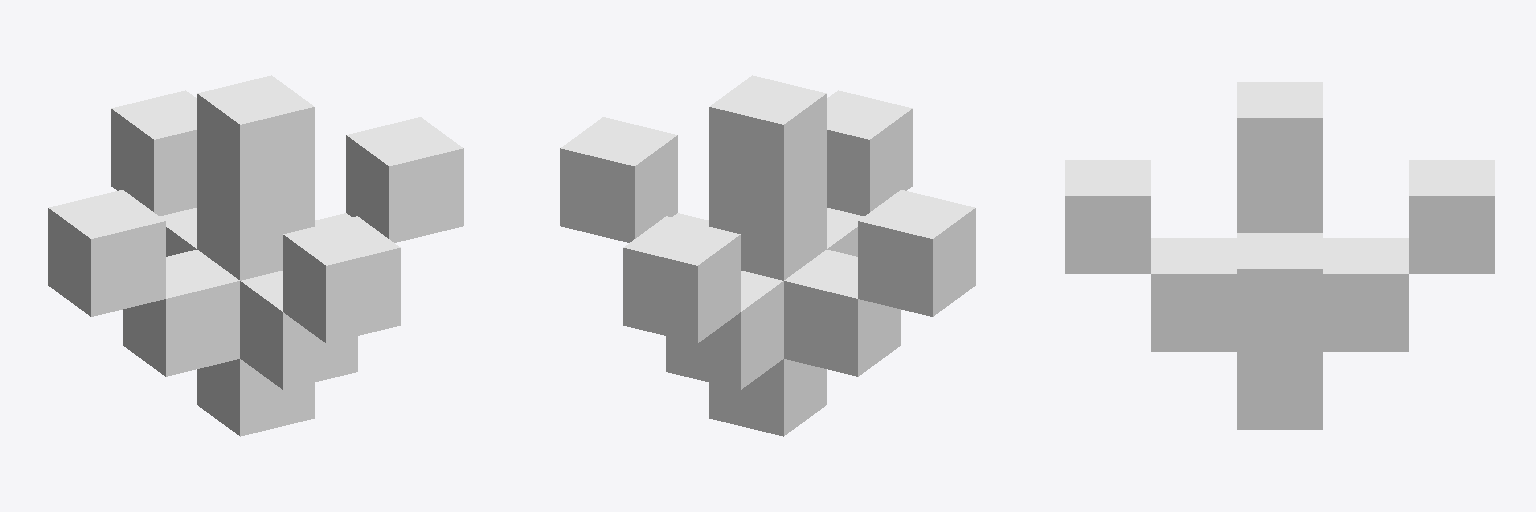
Rendered from flower-1.obj.
3 renders of one model, left to right at view 1: azimuth 30°, elevation 25°; view 2: azimuth 150°, elevation 25°; view 3: azimuth 270°, elevation 25°, orthographic.
Visible parts, largest first — view 1: object 1; view 2: object 1; view 3: object 1.
Part boxes in pixels (x1,y1,x2,y2): object 1: (48, 75, 463, 436); object 1: (560, 75, 975, 436); object 1: (1065, 82, 1494, 429).
Bounding box in the file's own units: 0.5 × 0.4 × 0.5.